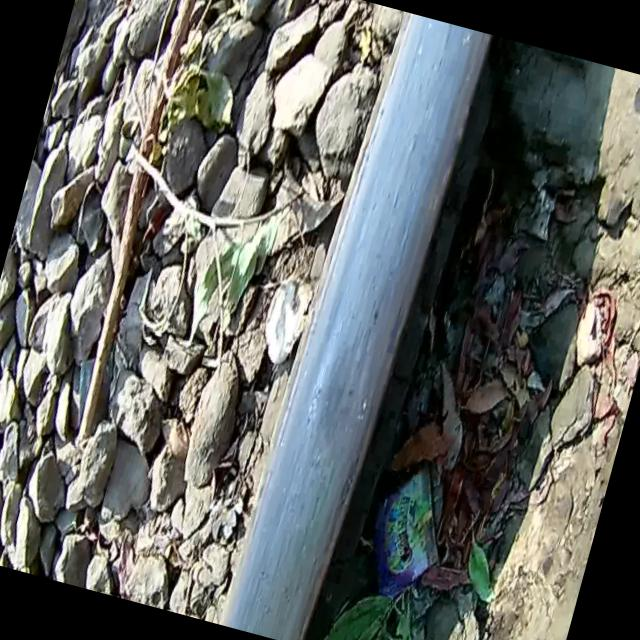Squats: (197, 0, 514, 640)
